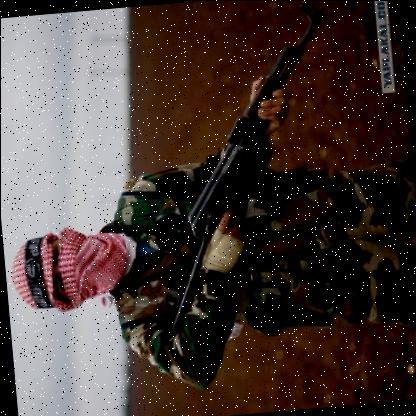rifle: (141, 0, 355, 331)
